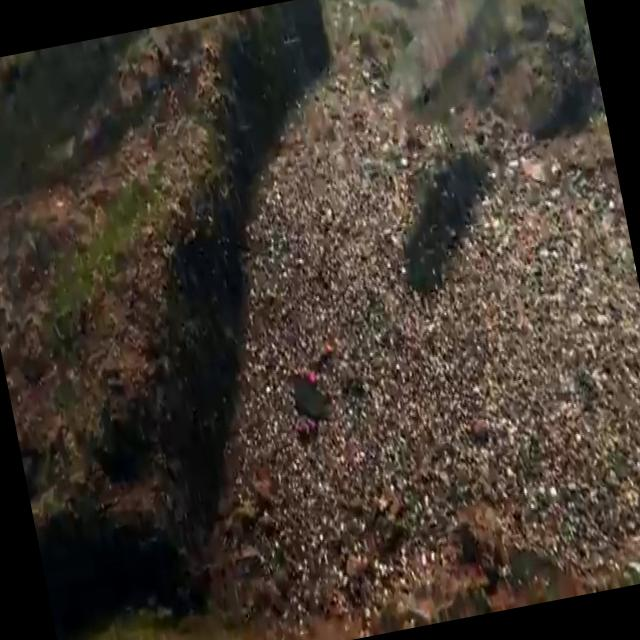Cakil Baligi: (363, 0, 518, 121)
